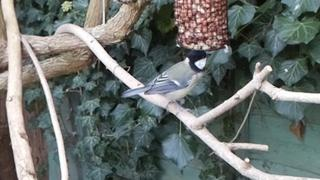great tit: (121, 49, 213, 117)
